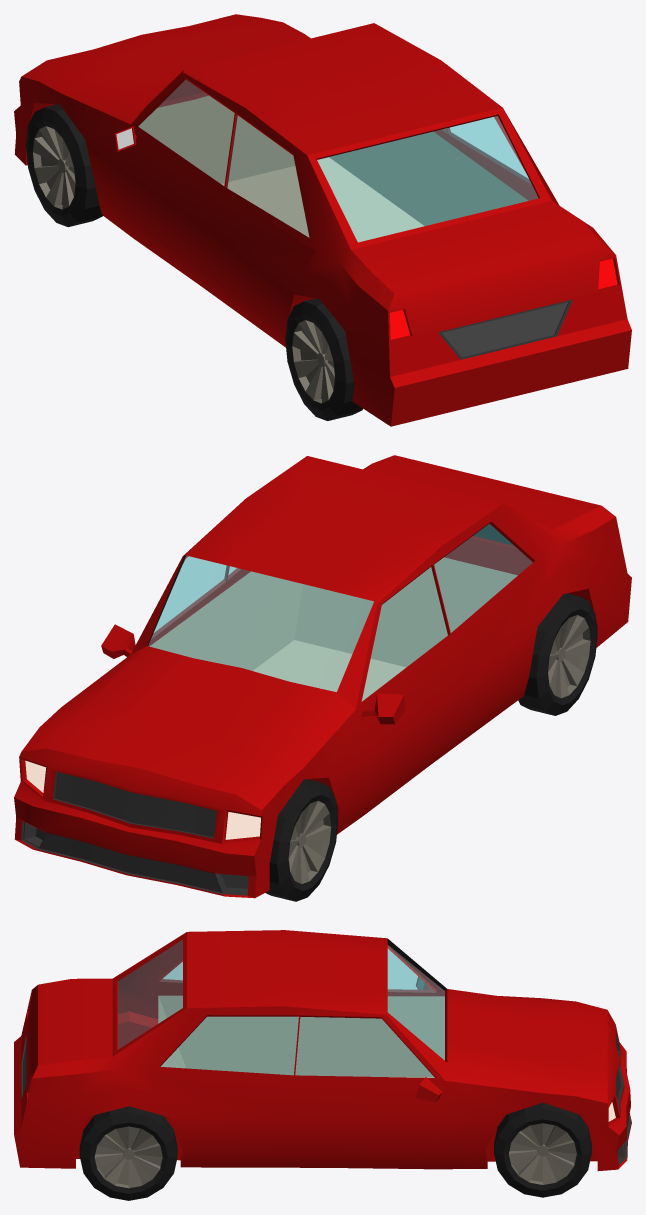
Rendered from car_1.glb.
3 views of the same model, one above another, from view 1: azimuth 30°, elevation 25°; view 2: azimuth 150°, elevation 25°; view 3: azimuth 270°, elevation 25° (orthographic). The views are drawn at different scales.
Visible parts, largest first — view 1: Car, Window-Back, Wheel_front, Wheel_back, Window-Front, Mirrors; view 2: Car, Window-Front, Wheel_back, Wheel_front, Window-Back, Mirrors; view 3: Car, Window-Front, Wheel_back, Wheel_front, Window-Back, Mirrors.
Part boxes in pixels (x1,y1,x2,y2): Car: (14, 14, 631, 426); Window-Back: (227, 116, 531, 236); Wheel_front: (25, 104, 102, 227); Wheel_back: (285, 298, 362, 420); Window-Front: (138, 80, 447, 187); Mirrors: (101, 126, 136, 151); Car: (14, 455, 631, 898); Window-Front: (151, 556, 447, 700); Wheel_back: (518, 593, 597, 715); Wheel_front: (265, 779, 338, 901); Window-Back: (228, 524, 532, 632); Mirrors: (101, 624, 405, 724); Car: (14, 930, 631, 1171); Window-Front: (295, 949, 435, 1077); Wheel_back: (79, 1106, 177, 1200); Wheel_front: (494, 1102, 591, 1197); Window-Back: (160, 962, 298, 1074); Mirrors: (416, 977, 441, 1102).
Size of the model in its own units: 1.98 by 1.49 by 4.55.
